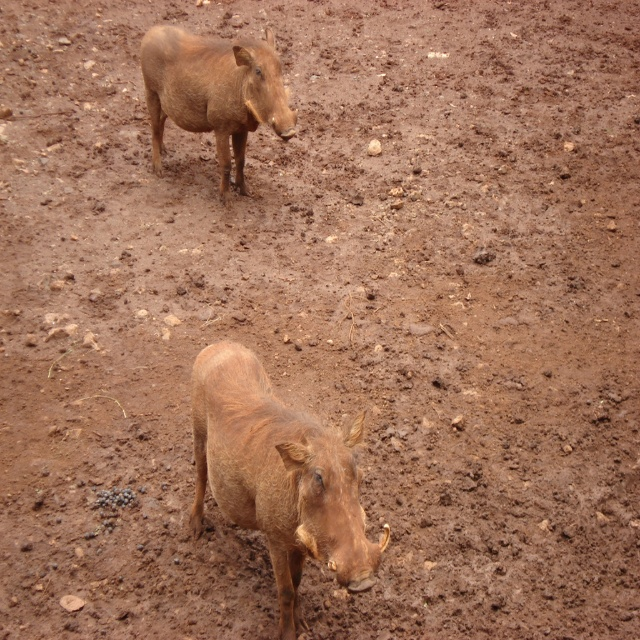Pig: (188, 341, 390, 640), (140, 25, 298, 208)
